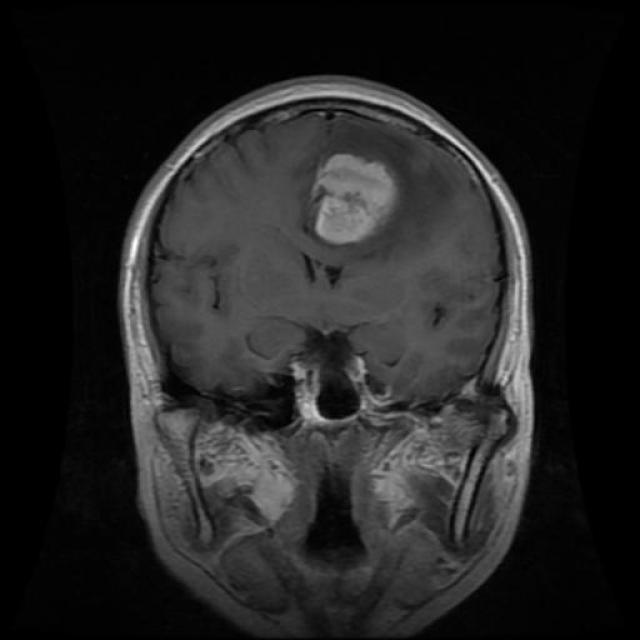meningioma: (315, 154, 396, 244)
